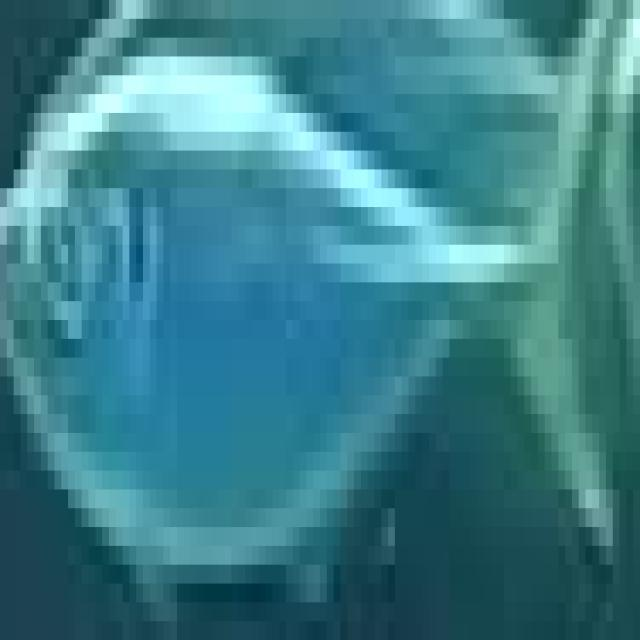fish: (7, 19, 640, 640)
